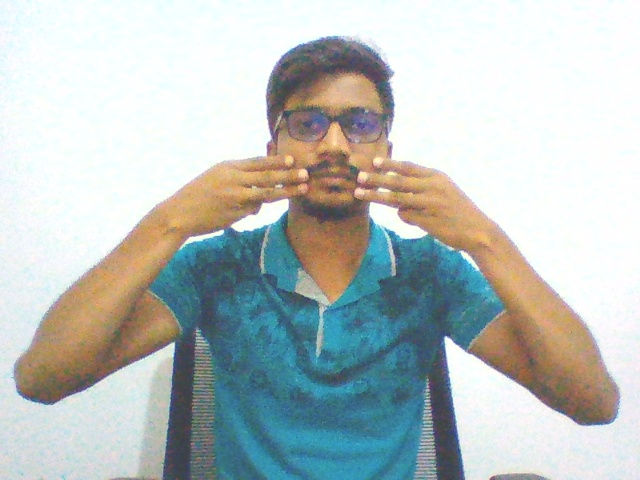cat: (145, 147, 501, 257)
